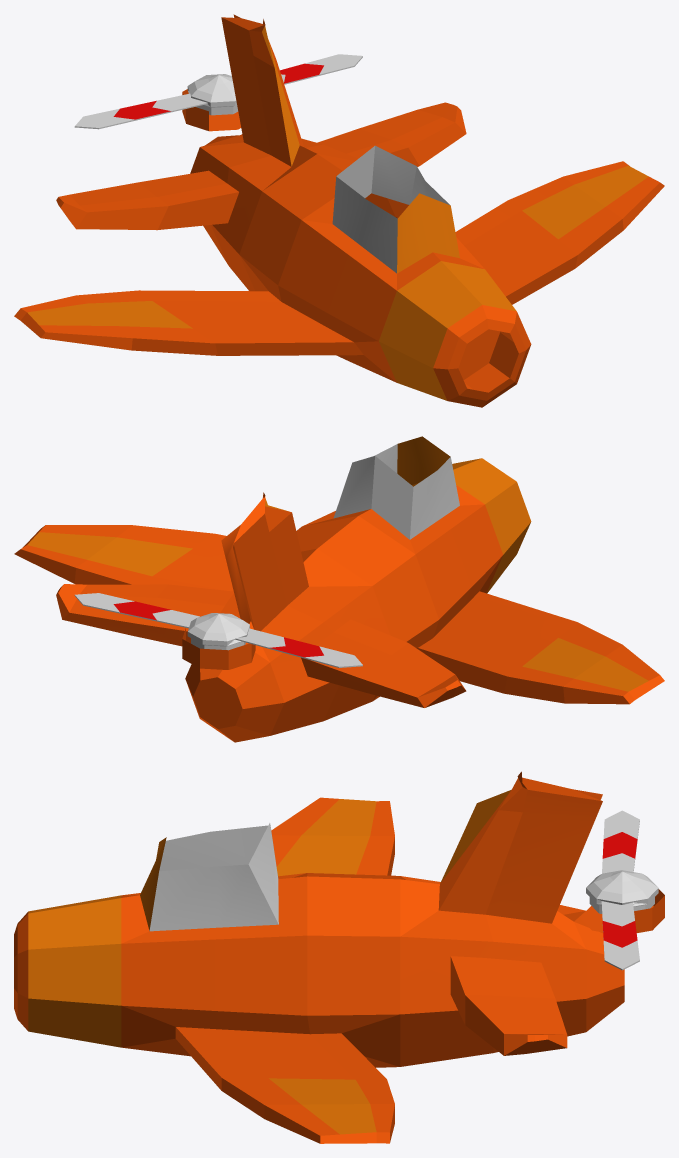
Rendered from New Airplane and Propeller.fbx.
The picture shows the model from 3 angles, top to bottom: view 1: azimuth 30°, elevation 25°; view 2: azimuth 150°, elevation 25°; view 3: azimuth 270°, elevation 25°; orthographic projection. The views are drawn at different scales.
Parts seen in each view (by area): view 1: Cylinder.004, Cylinder.001, Cylinder.002; view 2: Cylinder.004, Cylinder.001, Cylinder.002; view 3: Cylinder.004, Cylinder.001, Cylinder.002.
Boxes of the visible parts, <box> form: Cylinder.004: <box>14,14,664,407</box>; Cylinder.001: <box>74,54,362,129</box>; Cylinder.002: <box>182,89,241,131</box>; Cylinder.004: <box>14,436,664,742</box>; Cylinder.001: <box>74,593,362,667</box>; Cylinder.002: <box>182,628,255,669</box>; Cylinder.004: <box>14,771,624,1143</box>; Cylinder.001: <box>586,810,658,970</box>; Cylinder.002: <box>580,889,664,932</box>.
Bounding box in the file's own units: 1003 × 402 × 803.
